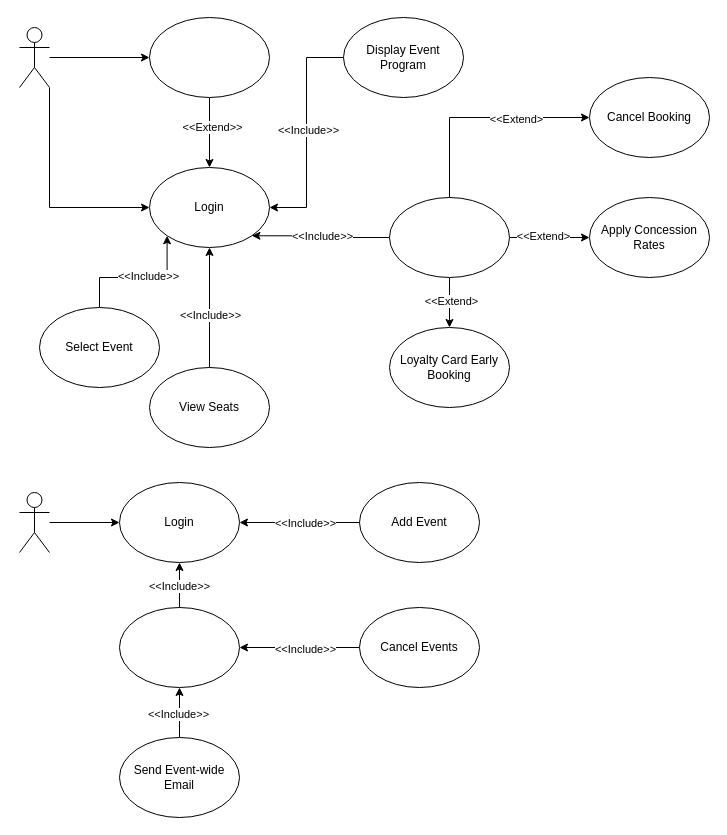
This 727x835 diagram has some shape labels left out. Here are the shapes that lost their labels. From the top down, the centre of each, then its label:
At point (34, 57): "User".
At point (209, 57): "Sign Up".
At point (449, 237): "Book Seats".
At point (34, 522): "Admin".
At point (179, 647): "Review Events".
